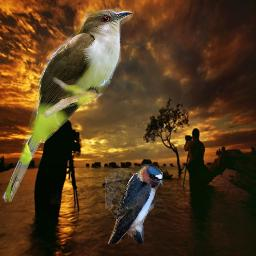Cuckoo: (2, 8, 133, 202)
Swallow: (105, 164, 163, 244)
